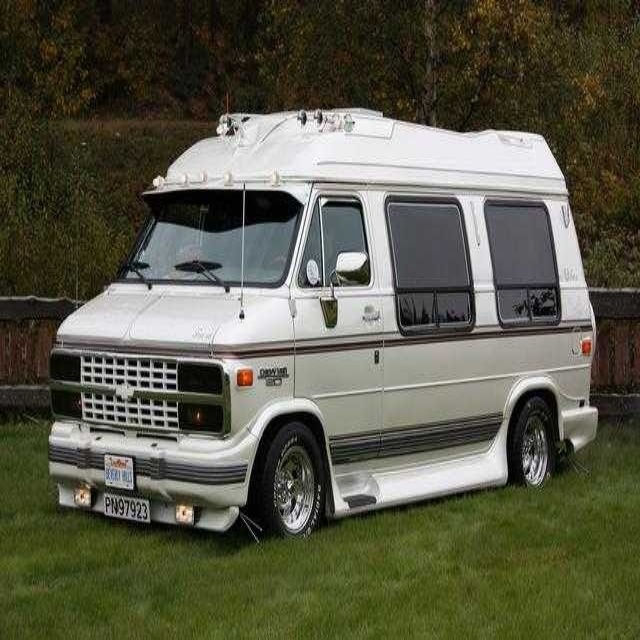Van: (48, 108, 599, 541)
